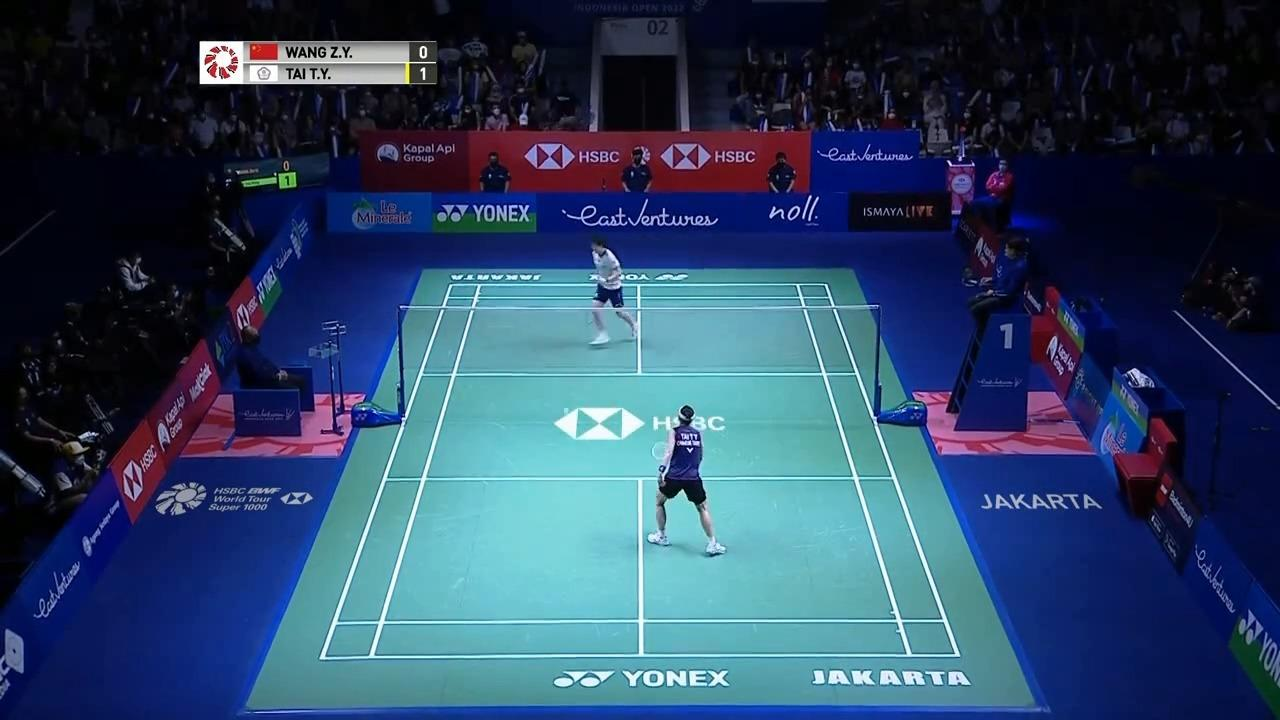shuttle: (563, 406, 572, 414)
